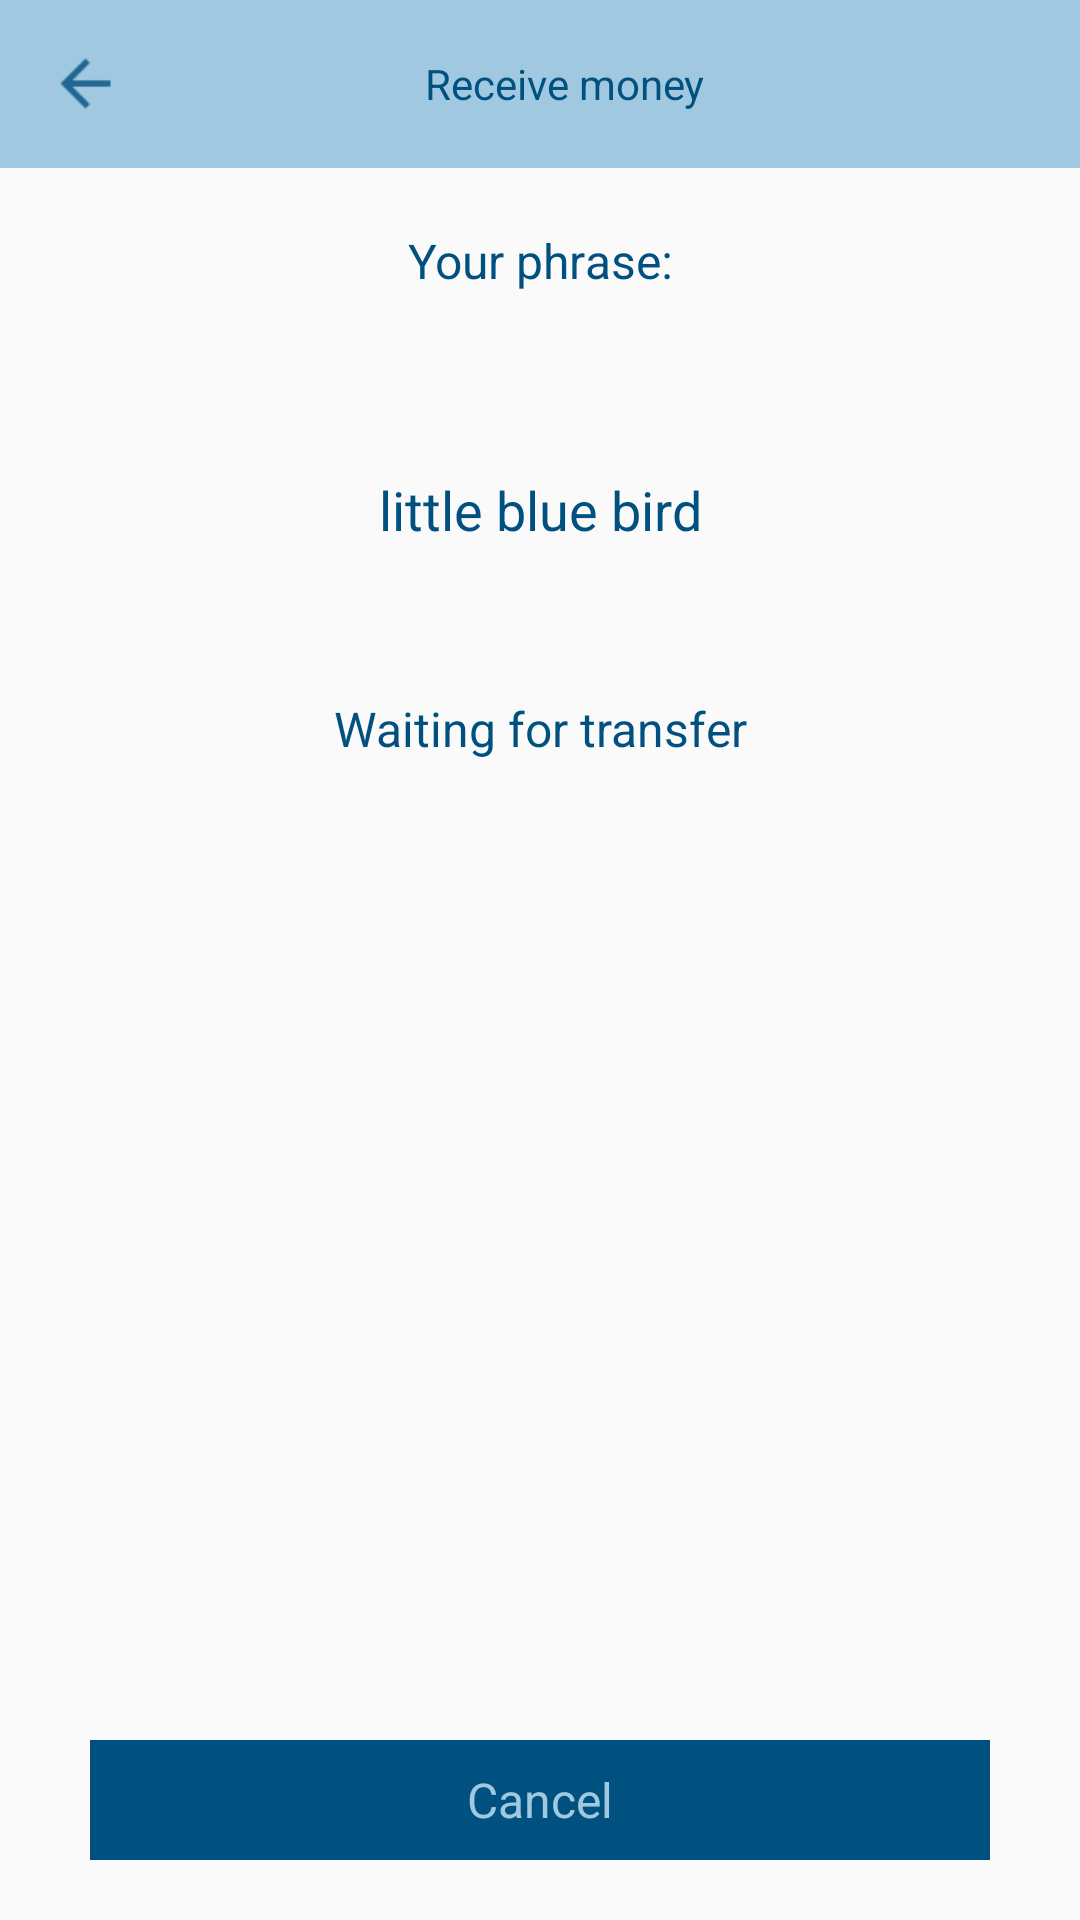

Named icons in this screenshot (1080px×1920px) and their centers, [x,y]:
arrow back: [85,83]
